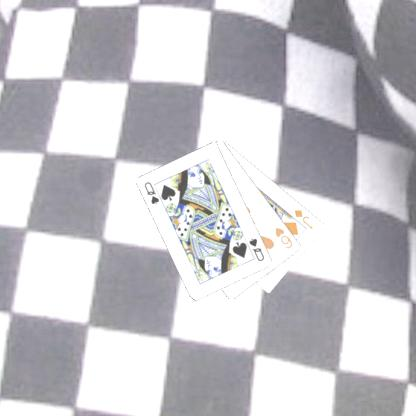6H: (273, 225, 294, 250)
JD: (292, 207, 315, 230)
QS: (246, 235, 266, 263), (142, 179, 161, 206)
